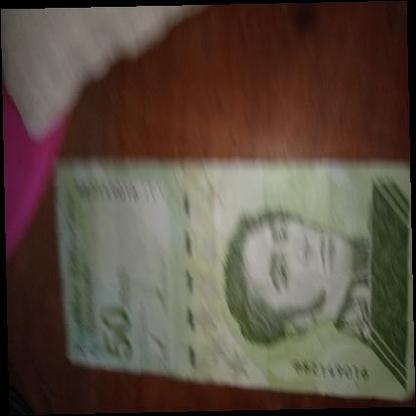fifty-front-vef: (52, 160, 414, 400)
